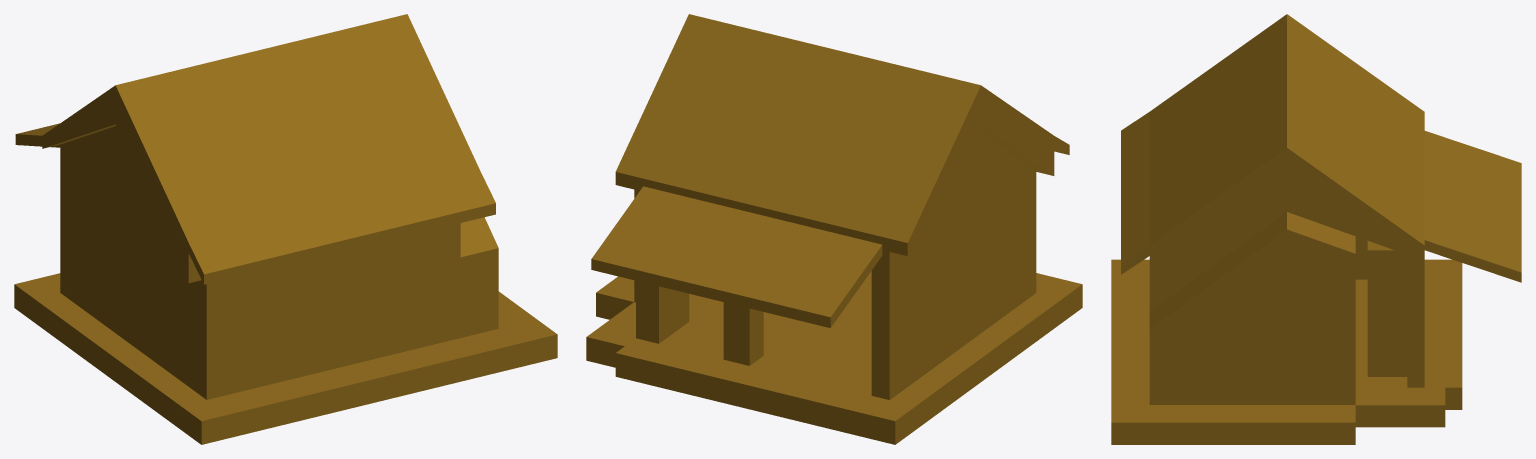
The model's file is StationLite.fbx.
3 views of the same model, side by side, from view 1: azimuth 30°, elevation 25°; view 2: azimuth 150°, elevation 25°; view 3: azimuth 270°, elevation 25° (orthographic). The views are drawn at different scales.
Parts seen in each view (by area): view 1: Cube; view 2: Cube; view 3: Cube.
Part boxes in pixels (<box>): Cube: <box>14,14,557,444</box>; Cube: <box>586,14,1082,444</box>; Cube: <box>1111,14,1521,444</box>.
Size of the model in its own units: 84.32 by 65.47 by 89.73.
